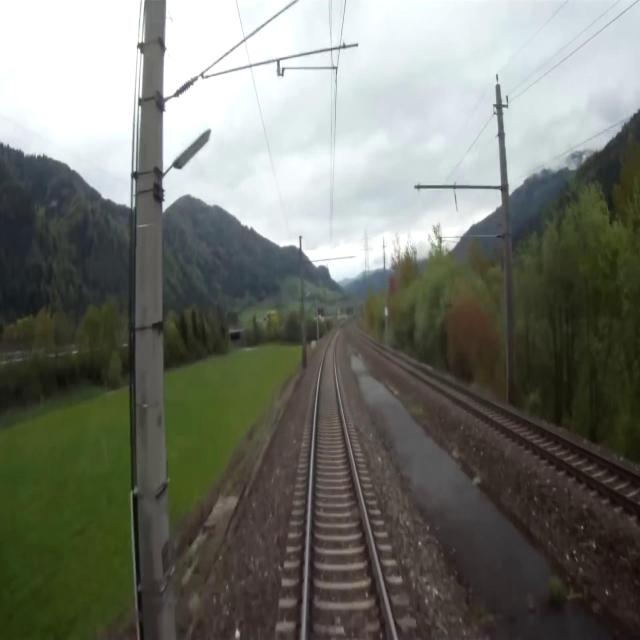rail-track: (389, 354, 640, 501), (306, 334, 392, 639)
